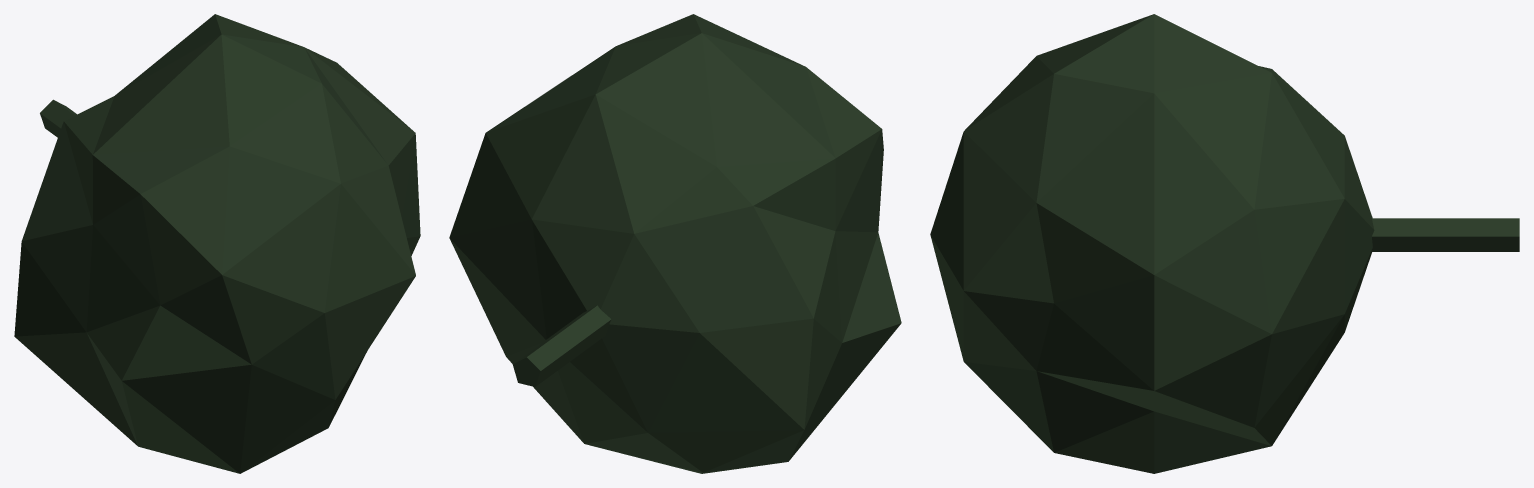
The model's file is tree_far_01.obj.
3 renders of one model, left to right at view 1: azimuth 30°, elevation 25°; view 2: azimuth 150°, elevation 25°; view 3: azimuth 270°, elevation 25°, orthographic. The views are drawn at different scales.
Parts seen in each view (by area): view 1: tree_far_01; view 2: tree_far_01; view 3: tree_far_01.
Part boxes in pixels (x1,y1,x2,y2): tree_far_01: [14, 14, 420, 473]; tree_far_01: [449, 14, 901, 473]; tree_far_01: [930, 14, 1519, 473].
Bounding box in the file's own units: 0.7501 × 0.8611 × 1.
1 material, 1 textured.
